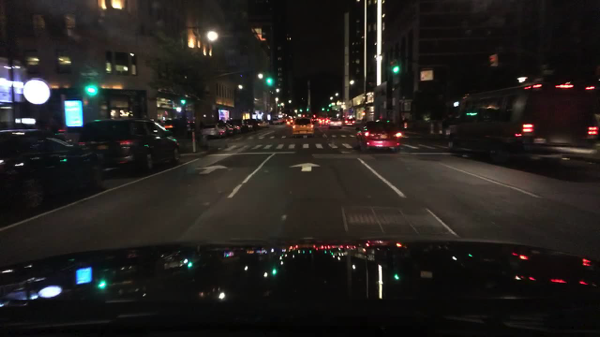bus: (440, 80, 598, 177)
car: (0, 127, 103, 218), (81, 118, 181, 176), (355, 119, 404, 153), (292, 116, 315, 136), (199, 123, 226, 140), (164, 118, 182, 132), (245, 119, 257, 133), (329, 117, 342, 129), (344, 115, 357, 127), (272, 114, 284, 126), (344, 116, 357, 127), (240, 121, 250, 134), (258, 120, 271, 129), (231, 124, 241, 135), (318, 117, 329, 127), (227, 123, 235, 136), (284, 116, 292, 125)
traffic light: (487, 52, 498, 68), (84, 85, 98, 97), (389, 65, 403, 75), (264, 77, 276, 88), (179, 98, 186, 106), (304, 105, 310, 113), (321, 106, 327, 112), (298, 107, 303, 113)
traffic sign: (64, 100, 83, 126), (420, 71, 433, 81)
